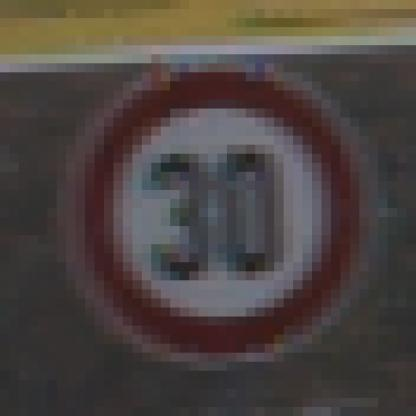Speed Limit 30: (74, 65, 369, 364)
